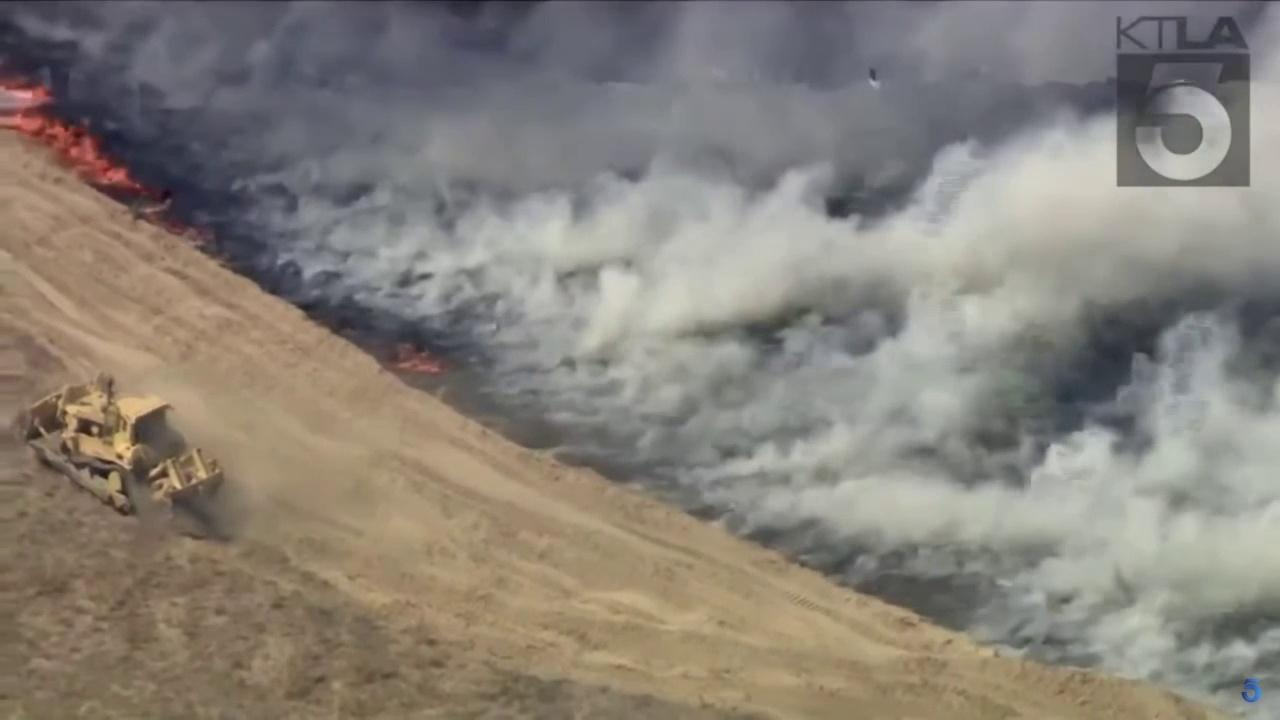fire: (0, 78, 152, 194), (383, 336, 451, 375)
smoke: (0, 0, 1280, 720)
